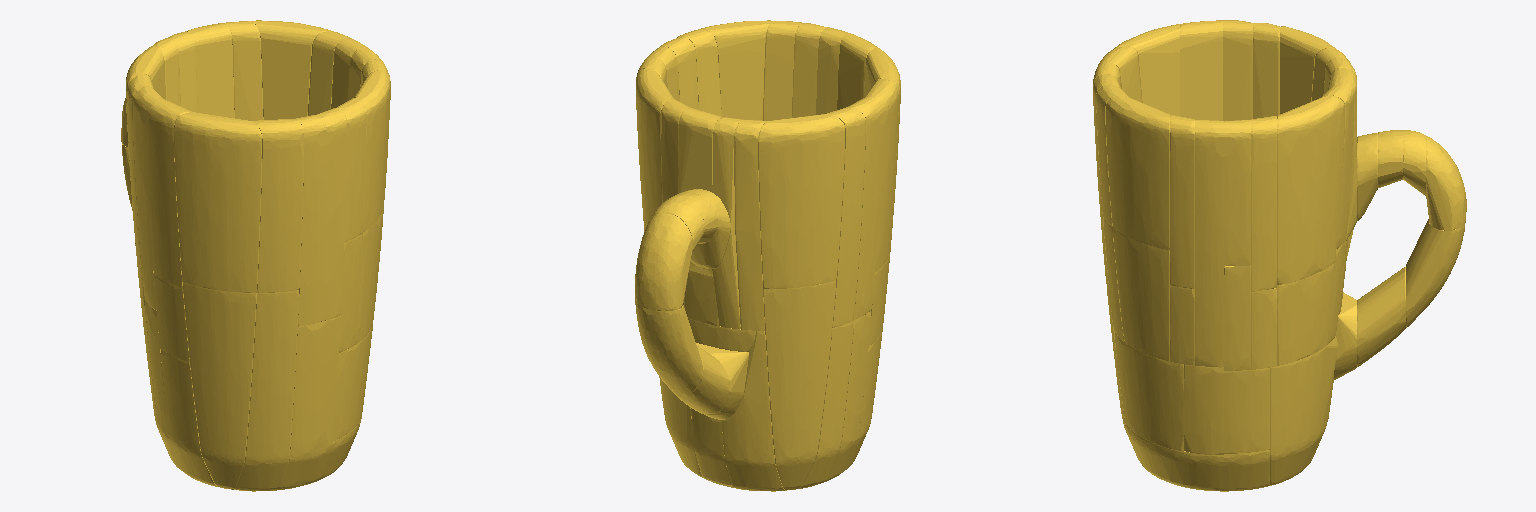
The robot description file, URDF, robot "213.urdf":
<?xml version="1.0" ?>
<robot name="213.urdf">
	<link name="baseLink">
		<inertial>
			<origin rpy="0 0 0" xyz="0 0 0"/>
				<mass value="0.1"/>
				<inertia ixx="6e-5" ixy="0" ixz="0" iyy="6e-5" iyz="0" izz="6e-5"/>
		</inertial>
		<visual>
			<origin rpy="0 0 0" xyz="0 0 0"/>
			<geometry>
				<mesh filename="8_decom_wt.obj" scale="0.85 0.85 0.92"/>
			</geometry>
			<material name="yellow">
				<color rgba="0.98 0.84 0.35 1"/>
			</material>
		</visual>
		<collision>
			<origin rpy="0 0 0" xyz="0 0 0"/>
			<geometry>
				<mesh filename="8_decom_wt.obj" scale="0.85 0.85 0.92"/>
			</geometry>
		</collision>
	</link>
</robot>

--- What the picture shows (computed from the rendered views, not written in the file) ---
3 views of the same robot in one strip: view 1: azimuth 30°, elevation 25°; view 2: azimuth 150°, elevation 25°; view 3: azimuth 270°, elevation 25° (orthographic).
Robot: 213.urdf — 1 links, 0 joints (none); root link baseLink; default pose: all joints at 0.
Visible links, largest first — view 1: baseLink; view 2: baseLink; view 3: baseLink.
Boxes of the visible links, x1=… form: baseLink: x1=121, y1=20, x2=390, y2=491; baseLink: x1=635, y1=20, x2=900, y2=491; baseLink: x1=1093, y1=20, x2=1466, y2=491.
Size in the robot's own frame: 0.0724 by 0.1024 by 0.1165 metres.
1 mesh visuals loaded from 1 distinct referenced files (1 OBJ).